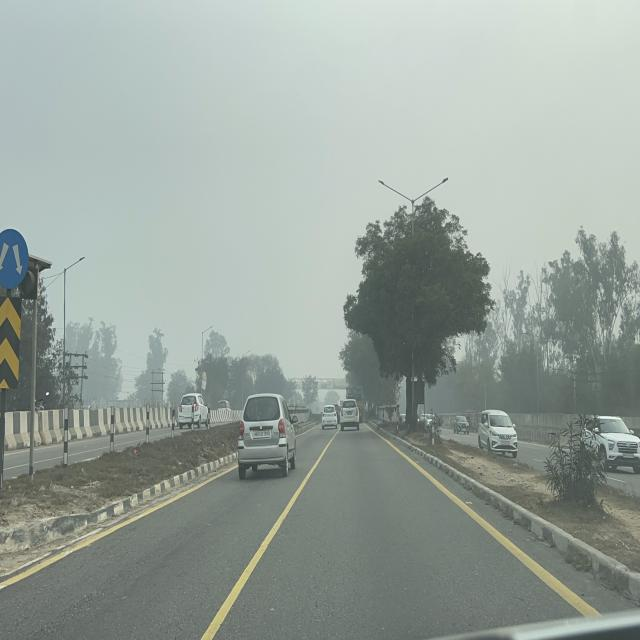KEEP_EITHER_SIDE: (0, 228, 30, 290)
